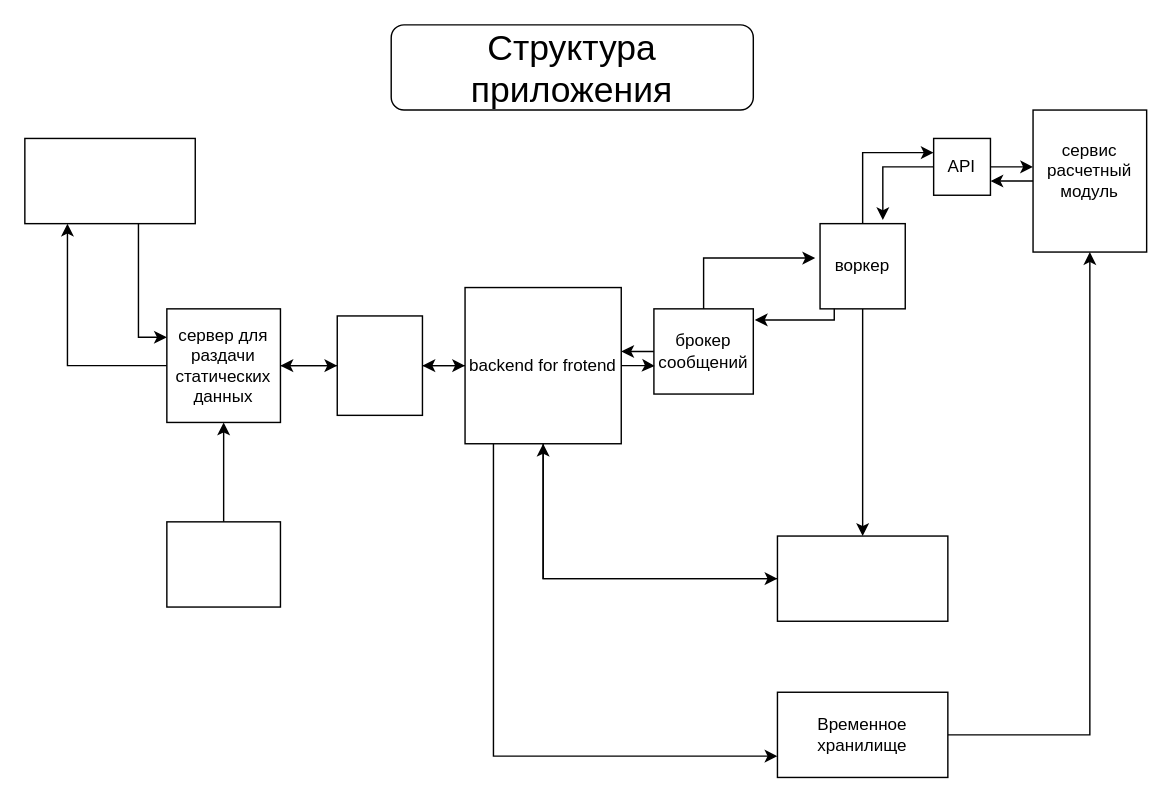
This 1172x802 diagram has some shape labels left out. Here are the shapes that lost their labels. From the top down, the box of each, then its label:
(23, 137, 195, 224): Клиент
(336, 315, 422, 415): сервер
(165, 520, 280, 607): статические файлы
(776, 535, 948, 621): БД
